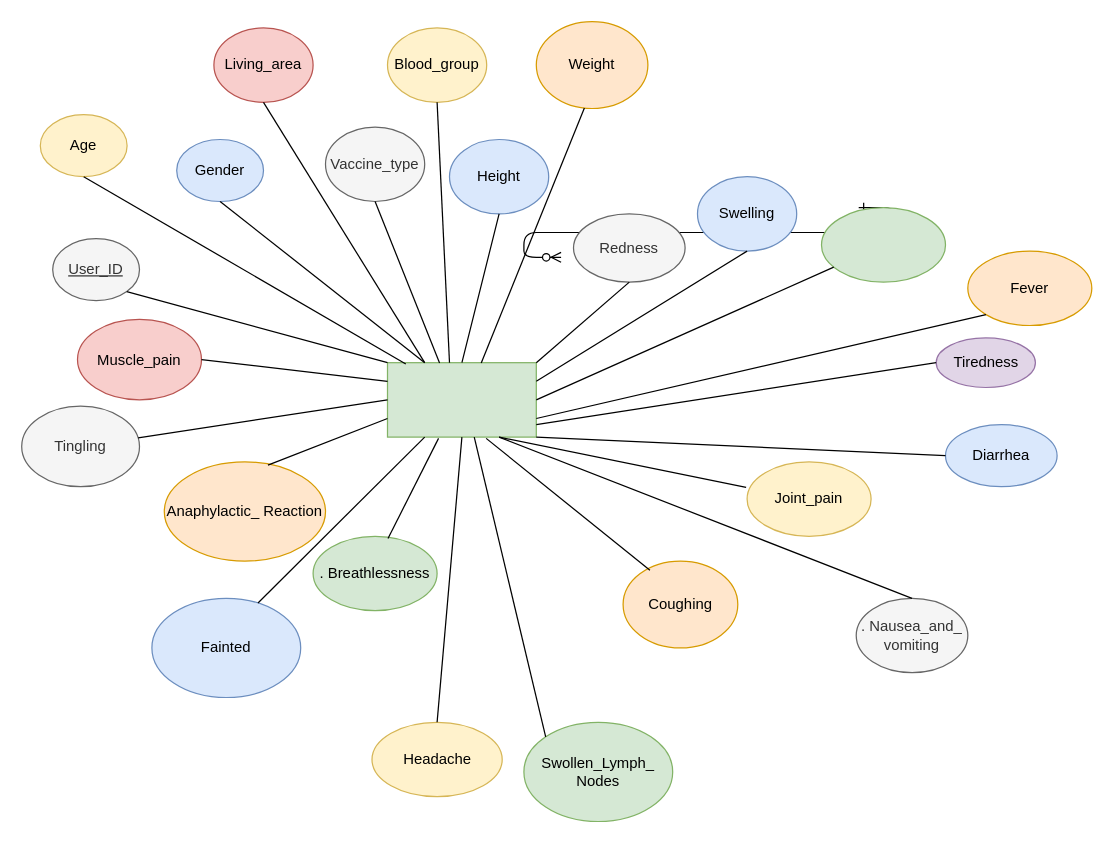
Some shapes in this 1114 by 843 pixel diagram are drawn without their labels. Here are the shapes that lost their labels. From the top down, the centre of each, then its label:
the point at 883,244: Itching
the point at 461,399: USER
